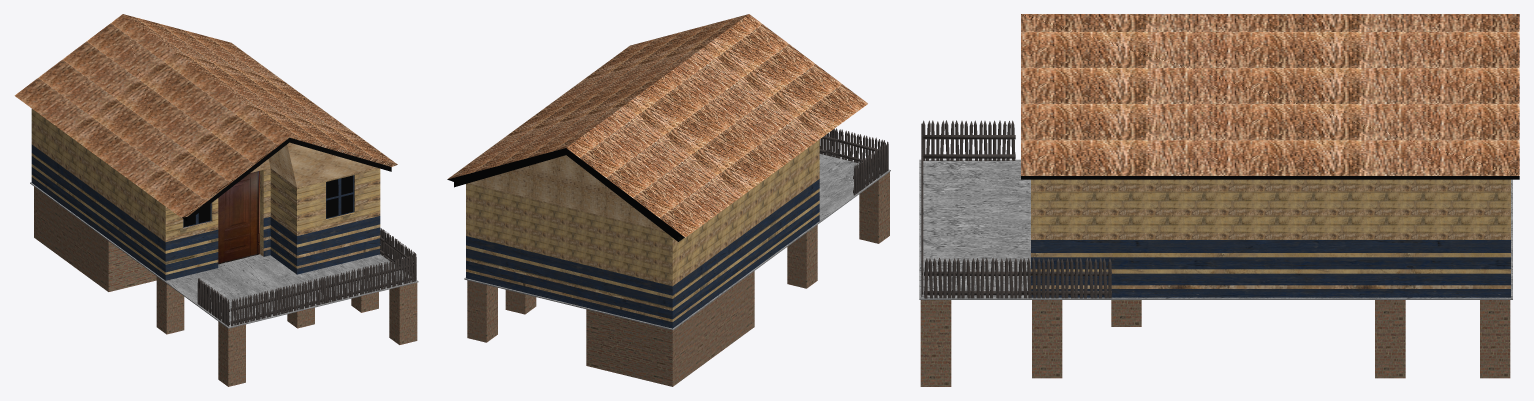
File: Rumah Pak Kades (dari luar).fbx
3 renders of one model, left to right at view 1: azimuth 30°, elevation 25°; view 2: azimuth 150°, elevation 25°; view 3: azimuth 270°, elevation 25°, orthographic. The views are drawn at different scales.
Parts seen in each view (by area): view 1: Cube, Base, Cube.008, Cube.001, Wood_Zabor, Cube.010, Cube.009, Cube.002, Wood_Zabor.001, Wood_Zabor.002, Cube.005, Cube.004 (+1 smaller); view 2: Cube, Base, Cube.001, Cube.008, Cube.009, Cube.006, Cube.002, Wood_Zabor, Wood_Zabor.001, Cube.007; view 3: Cube, Base, Cube.008, Wood_Zabor.002, Wood_Zabor.001, Cube.010, Cube.007, Cube.005, Cube.006, Cube.003, Wood_Zabor.
Boxes of the visible parts, box(x1,y1,x2,y2) form: Cube: box(14, 14, 397, 221); Base: box(31, 109, 380, 280); Cube.008: box(30, 182, 418, 328); Cube.001: box(34, 186, 156, 291); Wood_Zabor: box(230, 255, 415, 326); Cube.010: box(389, 282, 417, 344); Cube.009: box(218, 321, 245, 386); Cube.002: box(156, 276, 184, 334); Wood_Zabor.001: box(197, 278, 229, 326); Wood_Zabor.002: box(380, 228, 416, 280); Cube.005: box(351, 292, 378, 312); Cube.004: box(287, 307, 314, 328); Cube: box(447, 14, 867, 241); Base: box(466, 139, 819, 328); Cube.001: box(586, 271, 754, 386); Cube.008: box(464, 154, 890, 330); Cube.009: box(859, 172, 889, 243); Cube.006: box(467, 280, 497, 342); Cube.002: box(787, 225, 817, 288); Wood_Zabor: box(819, 128, 885, 163); Wood_Zabor.001: box(853, 141, 888, 195); Cube.007: box(505, 290, 536, 314); Cube: box(1021, 14, 1519, 179); Base: box(1031, 179, 1510, 297); Cube.008: box(919, 159, 1512, 299); Wood_Zabor.002: box(924, 257, 1111, 298); Wood_Zabor.001: box(922, 120, 1015, 160); Cube.010: box(920, 300, 951, 386); Cube.007: box(1375, 300, 1405, 378); Cube.005: box(1032, 300, 1062, 378); Cube.006: box(1480, 300, 1510, 378); Cube.003: box(1111, 300, 1141, 326); Wood_Zabor: box(921, 123, 923, 297).
Bounding box in the file's own units: 958 × 857 × 1532.
20 materials, 18 textured.
